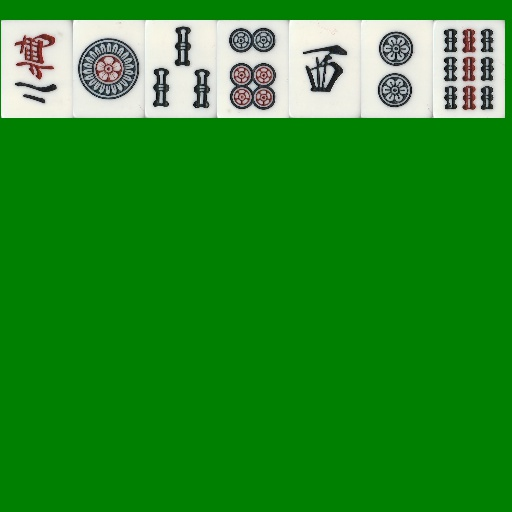1p: (73, 20, 145, 118)
2m: (1, 20, 73, 118)
2p: (361, 20, 433, 118)
3s: (145, 20, 217, 118)
6p: (217, 20, 289, 118)
9s: (433, 20, 505, 118)
west: (289, 20, 361, 118)
